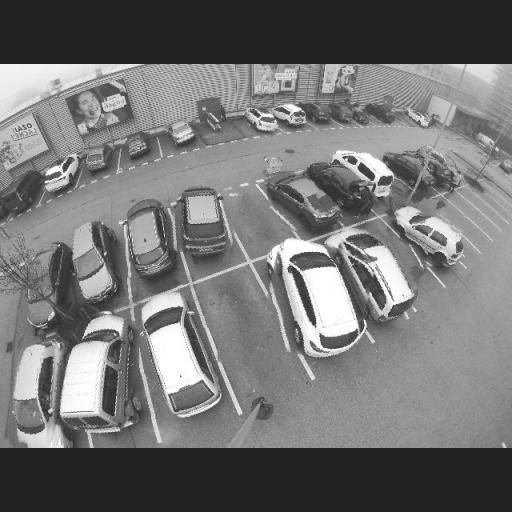busy: (262, 240, 372, 362), (54, 310, 143, 438), (139, 285, 218, 417), (329, 230, 423, 326), (7, 335, 65, 446), (170, 181, 240, 259), (64, 217, 122, 305), (267, 169, 341, 231), (120, 198, 176, 277), (398, 208, 463, 269), (28, 240, 72, 328), (314, 160, 374, 211), (330, 150, 396, 196), (386, 150, 428, 192), (0, 174, 40, 214), (419, 147, 458, 186), (42, 156, 80, 193), (80, 142, 114, 174), (165, 118, 200, 149), (242, 106, 278, 136), (273, 103, 308, 129), (121, 132, 153, 160), (302, 100, 330, 124), (365, 102, 395, 124), (401, 108, 431, 129), (328, 102, 354, 122), (350, 108, 370, 126), (496, 157, 512, 174)
free: (212, 297, 282, 370), (382, 241, 428, 277), (234, 201, 272, 231), (448, 216, 470, 234), (464, 208, 480, 221), (484, 199, 495, 206), (491, 195, 501, 202), (476, 204, 487, 210)
